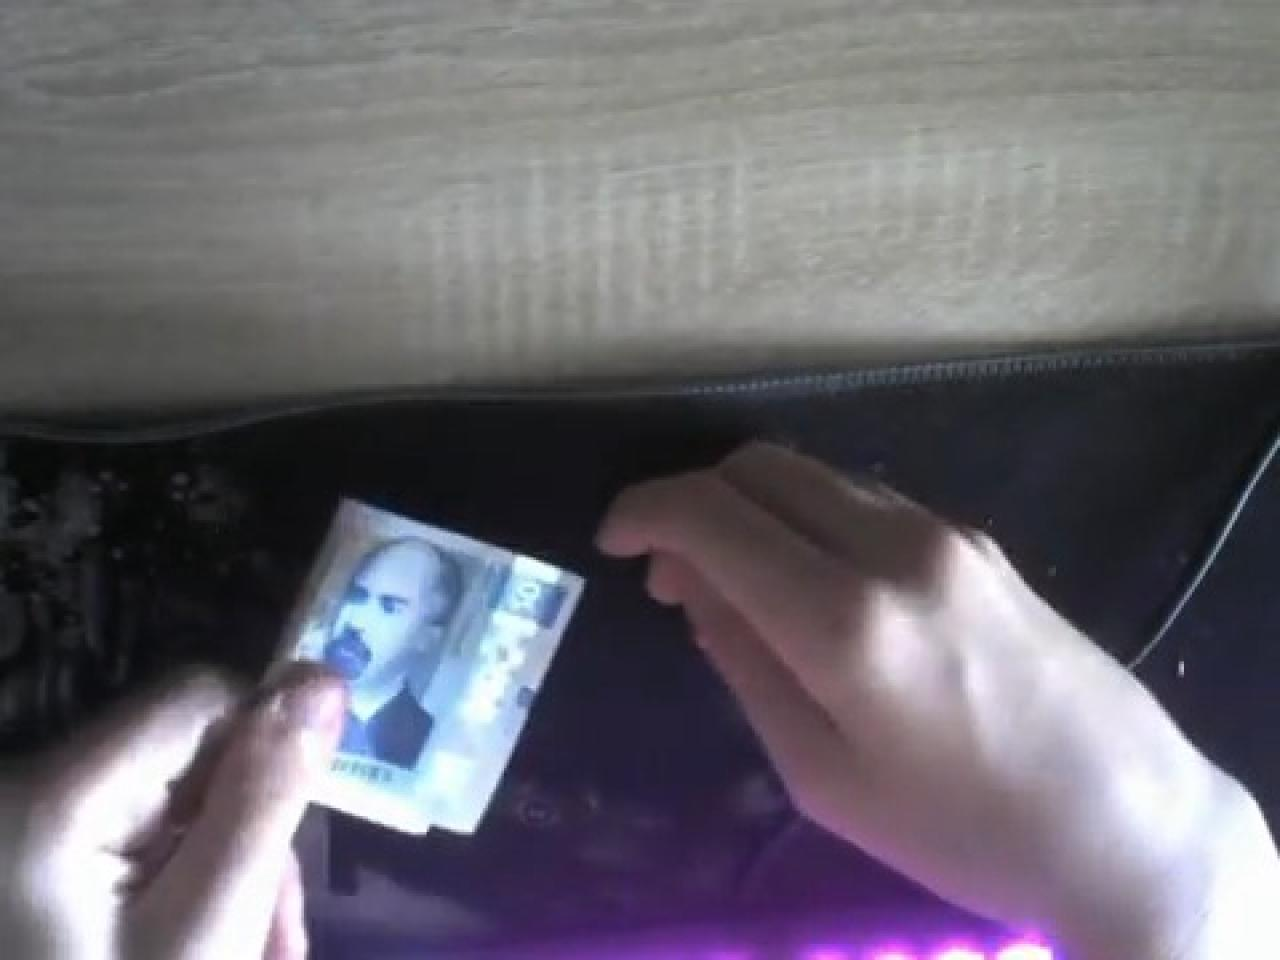20leva: (280, 493, 587, 835)
